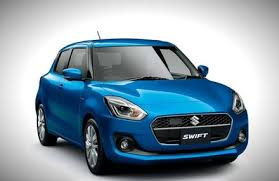Swift: (35, 33, 250, 175)
